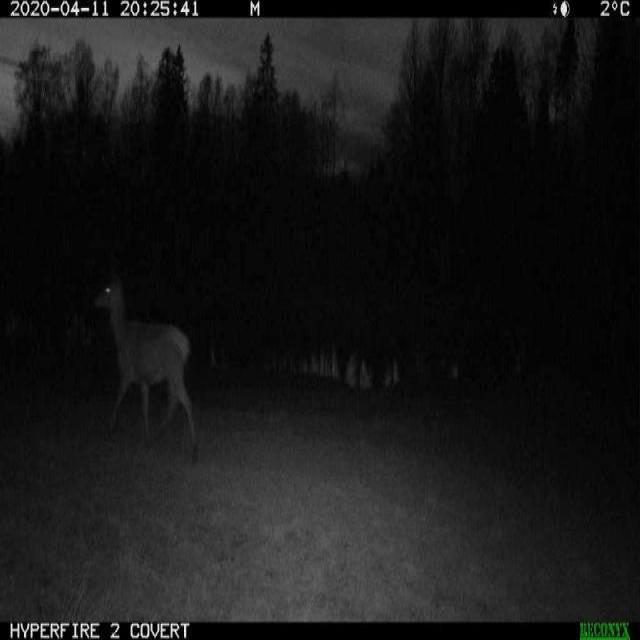deer: (78, 267, 201, 461)
